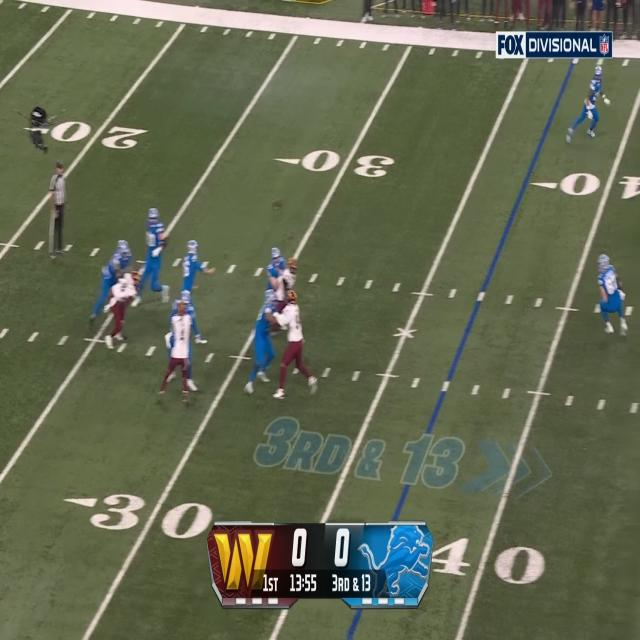Ball: (271, 197, 284, 210)
